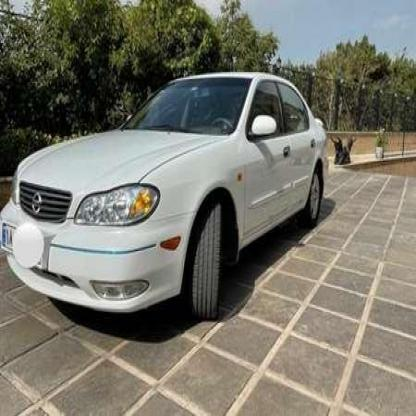Car: (0, 66, 327, 321)
